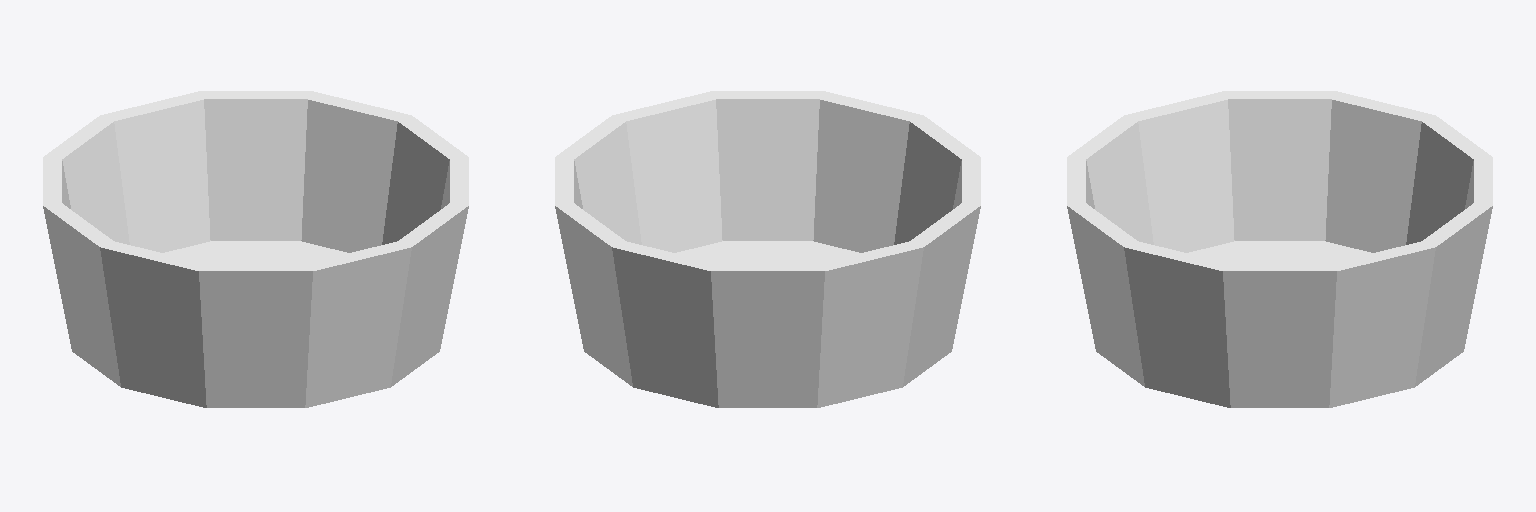
File: metal_tub.obj
3 views of the same model, side by side, from view 1: azimuth 30°, elevation 25°; view 2: azimuth 150°, elevation 25°; view 3: azimuth 270°, elevation 25° (orthographic).
Parts seen in each view (by area): view 1: tub; view 2: tub; view 3: tub.
Part boxes in pixels (x1,y1,x2,y2): tub: (43, 91, 468, 407); tub: (555, 91, 980, 407); tub: (1067, 91, 1492, 407).
Size of the model in its own units: 1.38 by 0.5312 by 1.38.